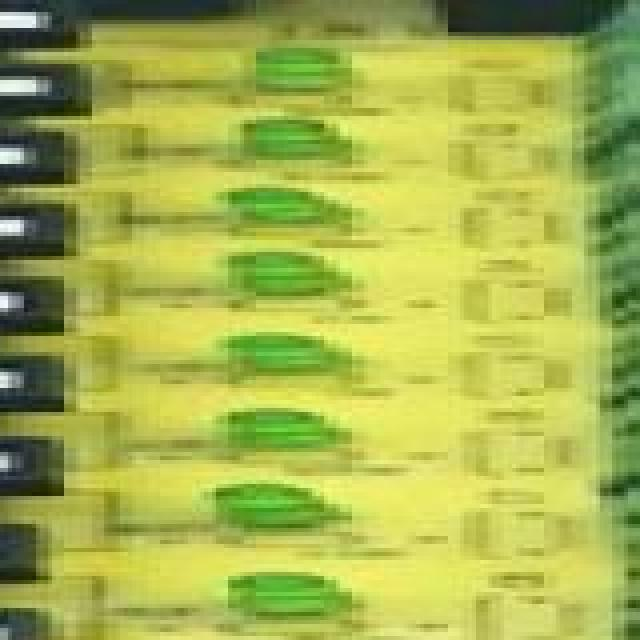LED: (224, 564, 404, 640), (156, 484, 382, 544), (176, 324, 384, 388), (156, 236, 382, 294), (164, 176, 382, 234), (212, 108, 426, 164), (184, 400, 382, 458), (224, 36, 404, 98)
fuse: (0, 276, 124, 340), (0, 0, 148, 48), (0, 440, 92, 500), (0, 520, 68, 596), (0, 140, 92, 196), (0, 48, 80, 112), (0, 204, 84, 256), (0, 360, 48, 420), (0, 612, 92, 640)
